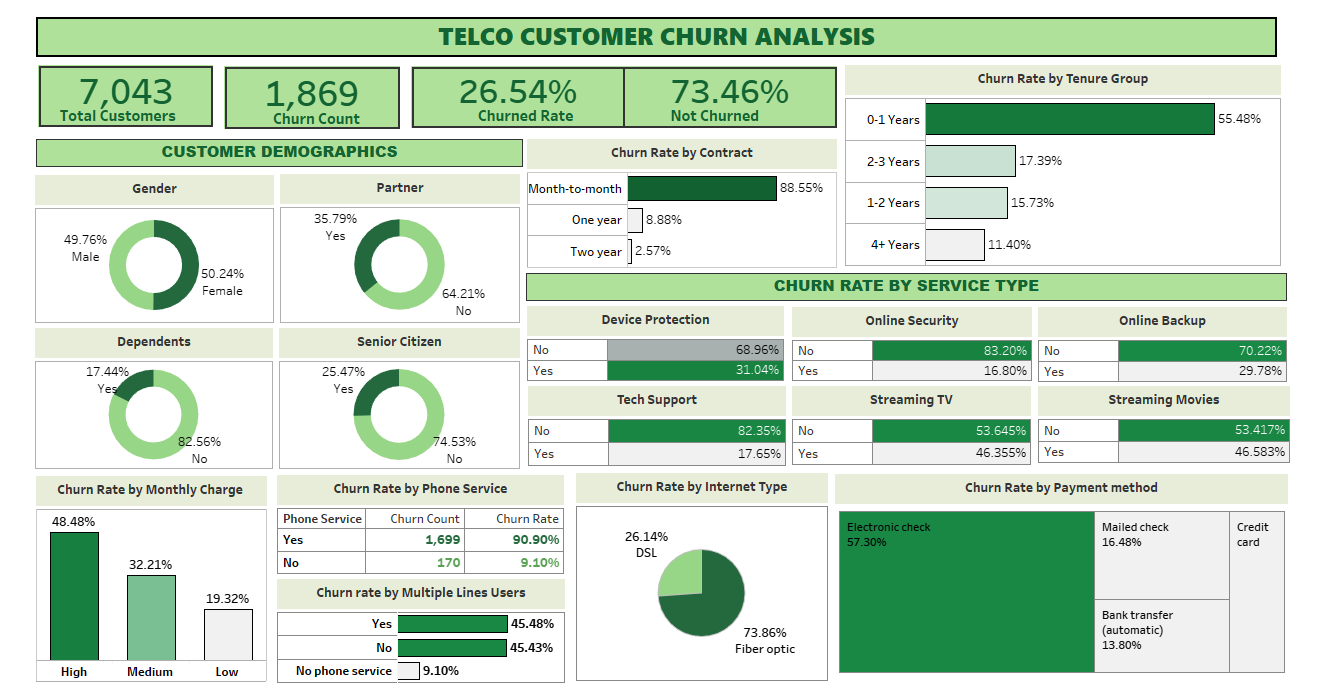

The page's visual inventory and layout, read from the dashboard file:
{"tool":"tableau","page":{"name":"Dashboard 1","canvas":[1155,952],"ordinal":0},"visuals":[{"type":"worksheet","title":"Total Customers","mark":"Automatic","box":[10,61,156,86]},{"type":"text","box":[29,94,130,50]},{"type":"worksheet","title":"Churn Rate By contract","mark":"Automatic","rows":["Contract"],"cols":["Churn"],"box":[446,155,323,176]},{"type":"worksheet","title":"Title","mark":"Automatic","box":[9,156,432,54]},{"type":"worksheet","title":"Churn Rate by Tenure Grp","mark":"Automatic","rows":["tenure_grp"],"cols":["Churn"],"box":[775,157,372,172]},{"type":"worksheet","title":"Churn Rate by Partner","mark":"Pie","rows":["Calculation_1132092370251042816","Calculation_1132092370251042816"],"box":[225,192,214,202]},{"type":"worksheet","title":"Churn Rate by Gender","mark":"Pie","rows":["Calculation_1132092370251042816","Calculation_1132092370251042816"],"box":[9,193,212,201]},{"type":"worksheet","title":"Title (2)","mark":"Automatic","box":[446,339,701,37]},{"type":"worksheet","title":"Online Backup","mark":"Square","rows":["OnlineBackup"],"box":[908,375,228,101]},{"type":"worksheet","title":"Device Protection","mark":"Automatic","rows":["Churn"],"cols":["DeviceProtection"],"box":[448,376,159,177]},{"type":"worksheet","title":"Multiple Lines","mark":"Square","rows":["MultipleLines"],"box":[684,376,219,101]},{"type":"worksheet","title":"Churn Rate by Dependents","mark":"Pie","rows":["Calculation_1132092370251042816","Calculation_1132092370251042816"],"box":[10,402,211,198]},{"type":"worksheet","title":"Churn Rate by Senior Citizen","mark":"Pie","rows":["Calculation_1132092370251042816","Calculation_1132092370251042816"],"box":[225,402,214,197]},{"type":"worksheet","title":"Phone Service","mark":"Square","rows":["PhoneService"],"box":[685,489,215,100]},{"type":"worksheet","title":"Streaming Movies","mark":"Square","rows":["StreamingMovies"],"box":[906,489,231,100]},{"type":"worksheet","title":"Tech Support","mark":"Square","rows":["TechSupport"],"box":[687,599,260,106]},{"type":"worksheet","title":"Churn Rate by Payment method","mark":"Automatic","box":[10,608,428,266]},{"type":"worksheet","title":"Online Security","mark":"Square","rows":["OnlineSecurity"],"box":[447,616,230,101]},{"type":"worksheet","title":"Streaming TV","mark":"Square","rows":["StreamingTV"],"box":[457,695,231,109]}]}

Visuals, with their boxes on the page's 1155x952 design canvas (x1, y1, x2, y2). These are canvas units, not pixel positions in the 1325x695 screenshot, which may show the page scaled, cropped or inside an application window:
"Total Customers" worksheet: (10, 61, 166, 147)
text: (29, 94, 159, 144)
"Churn Rate By contract" worksheet: (446, 155, 769, 331)
"Title" worksheet: (9, 156, 441, 210)
"Churn Rate by Tenure Grp" worksheet: (775, 157, 1147, 329)
"Churn Rate by Partner" worksheet (Pie marks): (225, 192, 439, 394)
"Churn Rate by Gender" worksheet (Pie marks): (9, 193, 221, 394)
"Title (2)" worksheet: (446, 339, 1147, 376)
"Online Backup" worksheet (Square marks): (908, 375, 1136, 476)
"Device Protection" worksheet: (448, 376, 607, 553)
"Multiple Lines" worksheet (Square marks): (684, 376, 903, 477)
"Churn Rate by Dependents" worksheet (Pie marks): (10, 402, 221, 600)
"Churn Rate by Senior Citizen" worksheet (Pie marks): (225, 402, 439, 599)
"Phone Service" worksheet (Square marks): (685, 489, 900, 589)
"Streaming Movies" worksheet (Square marks): (906, 489, 1137, 589)
"Tech Support" worksheet (Square marks): (687, 599, 947, 705)
"Churn Rate by Payment method" worksheet: (10, 608, 438, 874)
"Online Security" worksheet (Square marks): (447, 616, 677, 717)
"Streaming TV" worksheet (Square marks): (457, 695, 688, 804)
